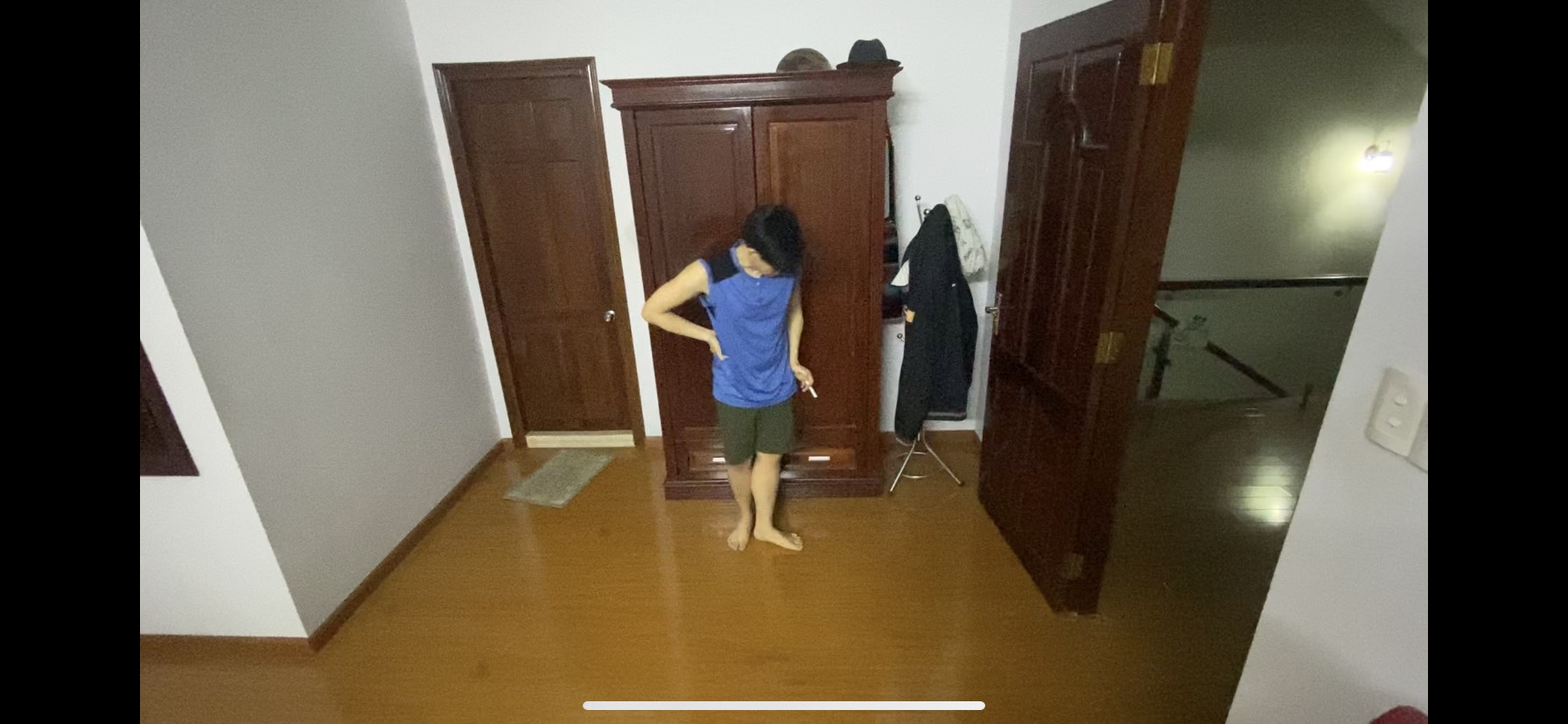cigarette: (806, 379, 824, 402)
person: (678, 189, 841, 578)
